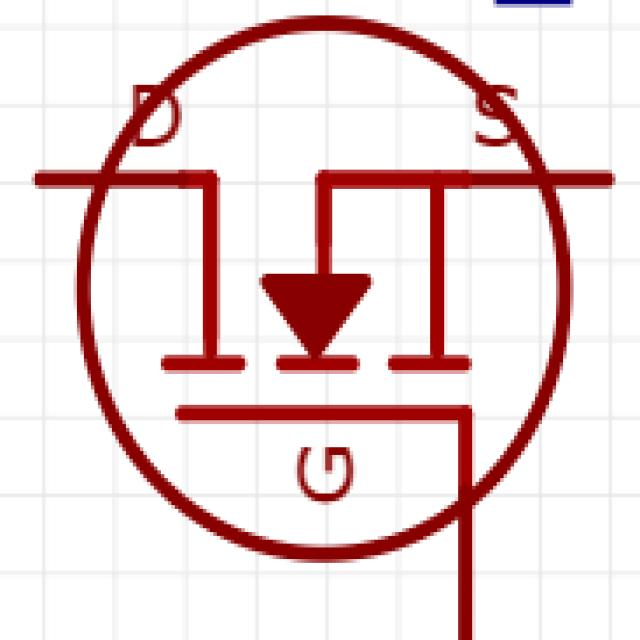nmos: (30, 0, 623, 636)
